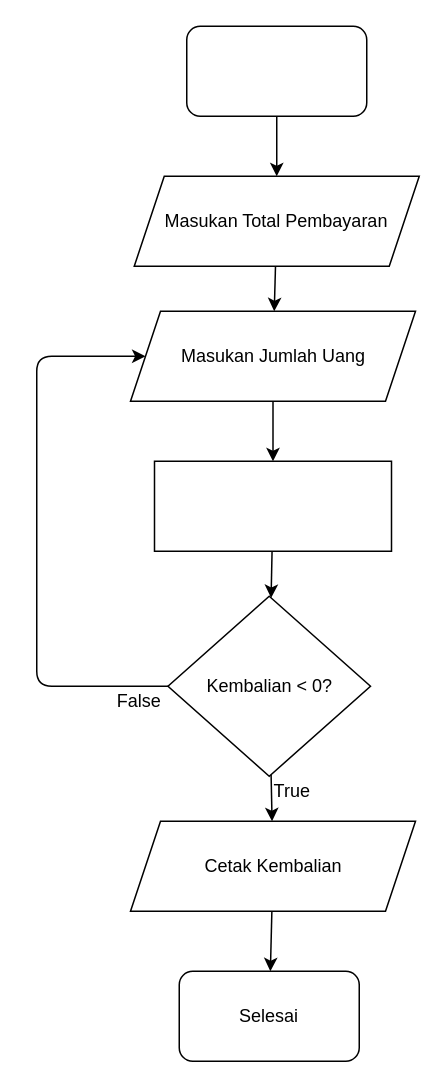
The diagram is 446 pixels wide and 1088 high, and some of its shapes have lost their labels. Here are the shapes that lost their labels. From the top down, the centre of each, then its label:
At (276,70): "Mulai".
At (272,505): "Menghitung kembalian".
